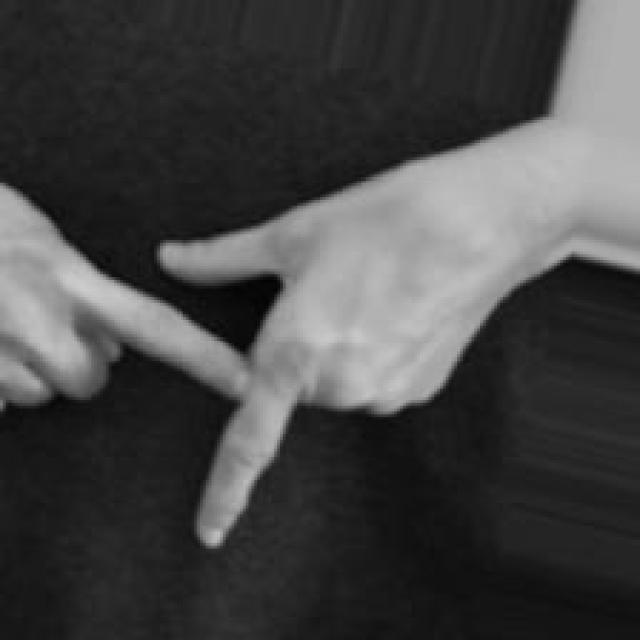F: (1, 132, 573, 550)
